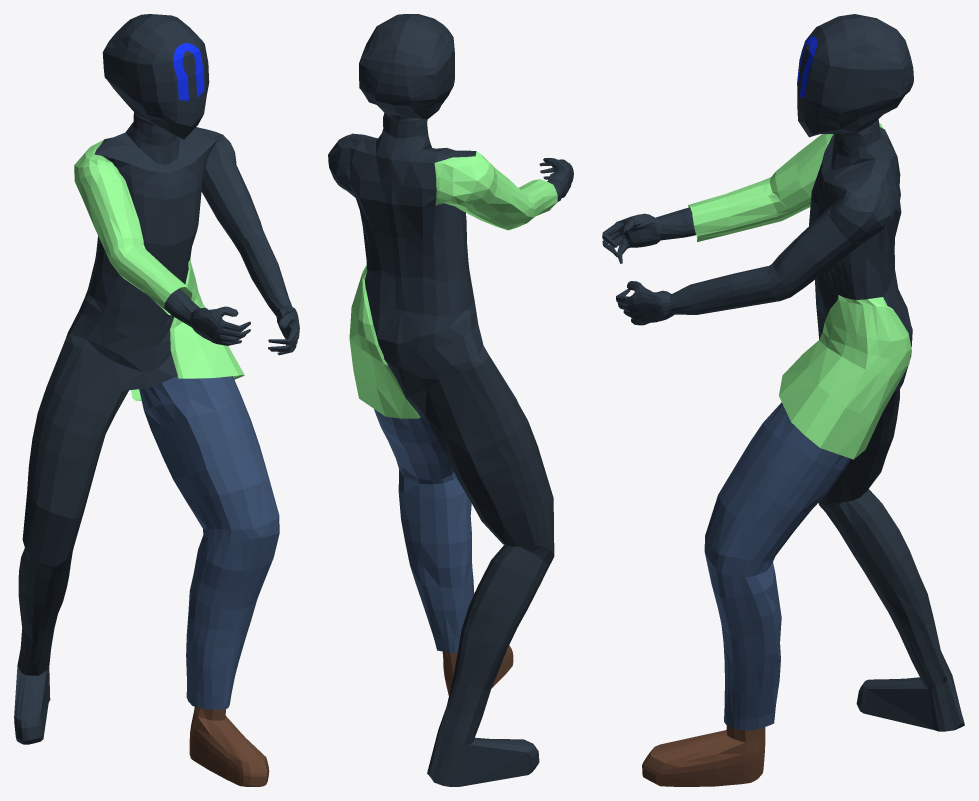
File: Mar_Die_000004.obj
The picture shows the model from 3 angles, left to right: view 1: azimuth 30°, elevation 25°; view 2: azimuth 150°, elevation 25°; view 3: azimuth 270°, elevation 25°; orthographic projection. The views are drawn at different scales.
Visible parts, largest first — view 1: Cube.000_Cube.001; view 2: Cube.000_Cube.001; view 3: Cube.000_Cube.001.
Boxes of the visible parts, x1,y1,x2,y2 form: Cube.000_Cube.001: (14, 14, 299, 786); Cube.000_Cube.001: (328, 14, 573, 786); Cube.000_Cube.001: (602, 14, 964, 786).
Bounding box in the file's own units: 1.18 × 3.74 × 1.61.
